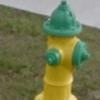a fire hydrant: (35, 1, 89, 100)
